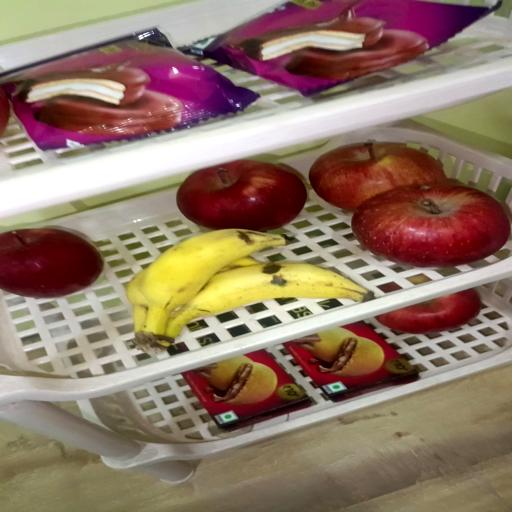Apple: (351, 186, 510, 269), (309, 140, 446, 210), (178, 162, 308, 233), (0, 229, 103, 299), (376, 291, 480, 335)
Choco Fills: (284, 323, 420, 402), (184, 351, 312, 430)
Choco Pie: (0, 28, 257, 150), (201, 0, 503, 96)
